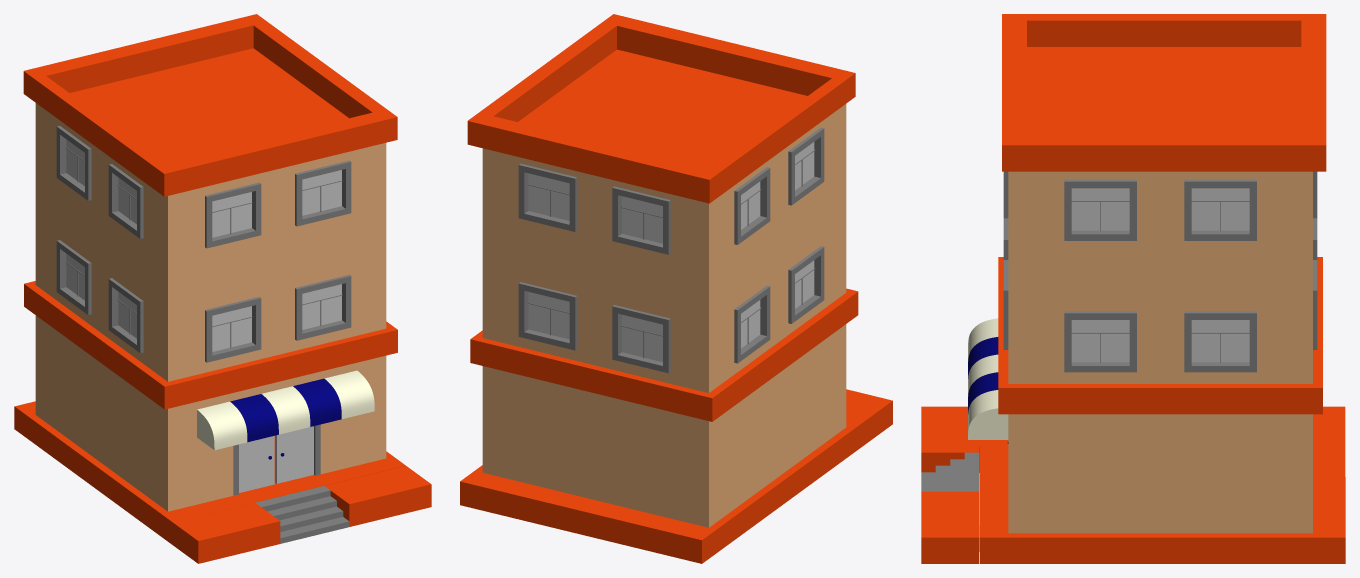
File: BUILD_6.fbx
3 renders of one model, left to right at view 1: azimuth 30°, elevation 25°; view 2: azimuth 150°, elevation 25°; view 3: azimuth 270°, elevation 25°, orthographic. The views are drawn at different scales.
Parts seen in each view (by area): view 1: BUILD_6; view 2: BUILD_6; view 3: BUILD_6.
Boxes of the visible parts, bbox=[...] form: BUILD_6: bbox=[14, 14, 431, 563]; BUILD_6: bbox=[460, 14, 892, 563]; BUILD_6: bbox=[921, 14, 1345, 563].
Bounding box in the file's own units: 8456 × 12547 × 11509.
Materials: 7 (7 with a texture image).
